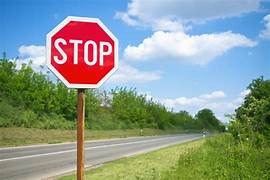stop: (46, 16, 118, 88)
